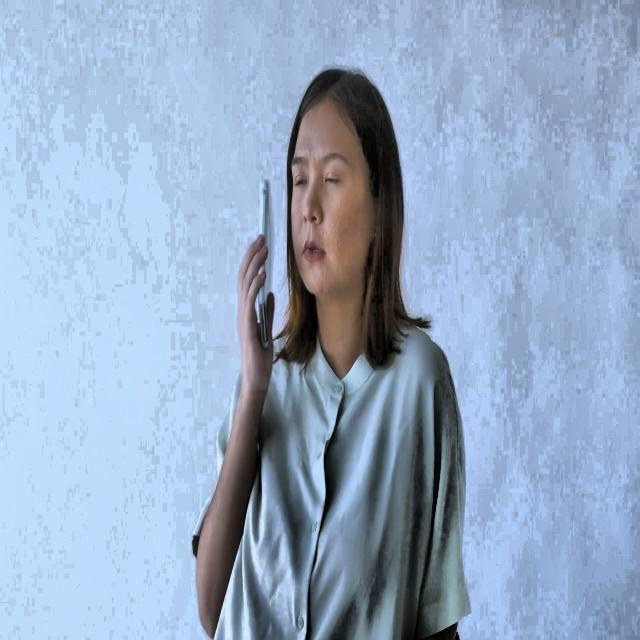Phone: (256, 176, 278, 354)
